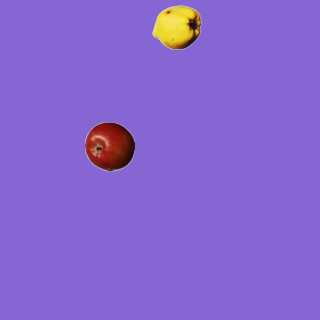Apple Braeburn: (84, 121, 134, 171)
Quince: (151, 2, 201, 52)
